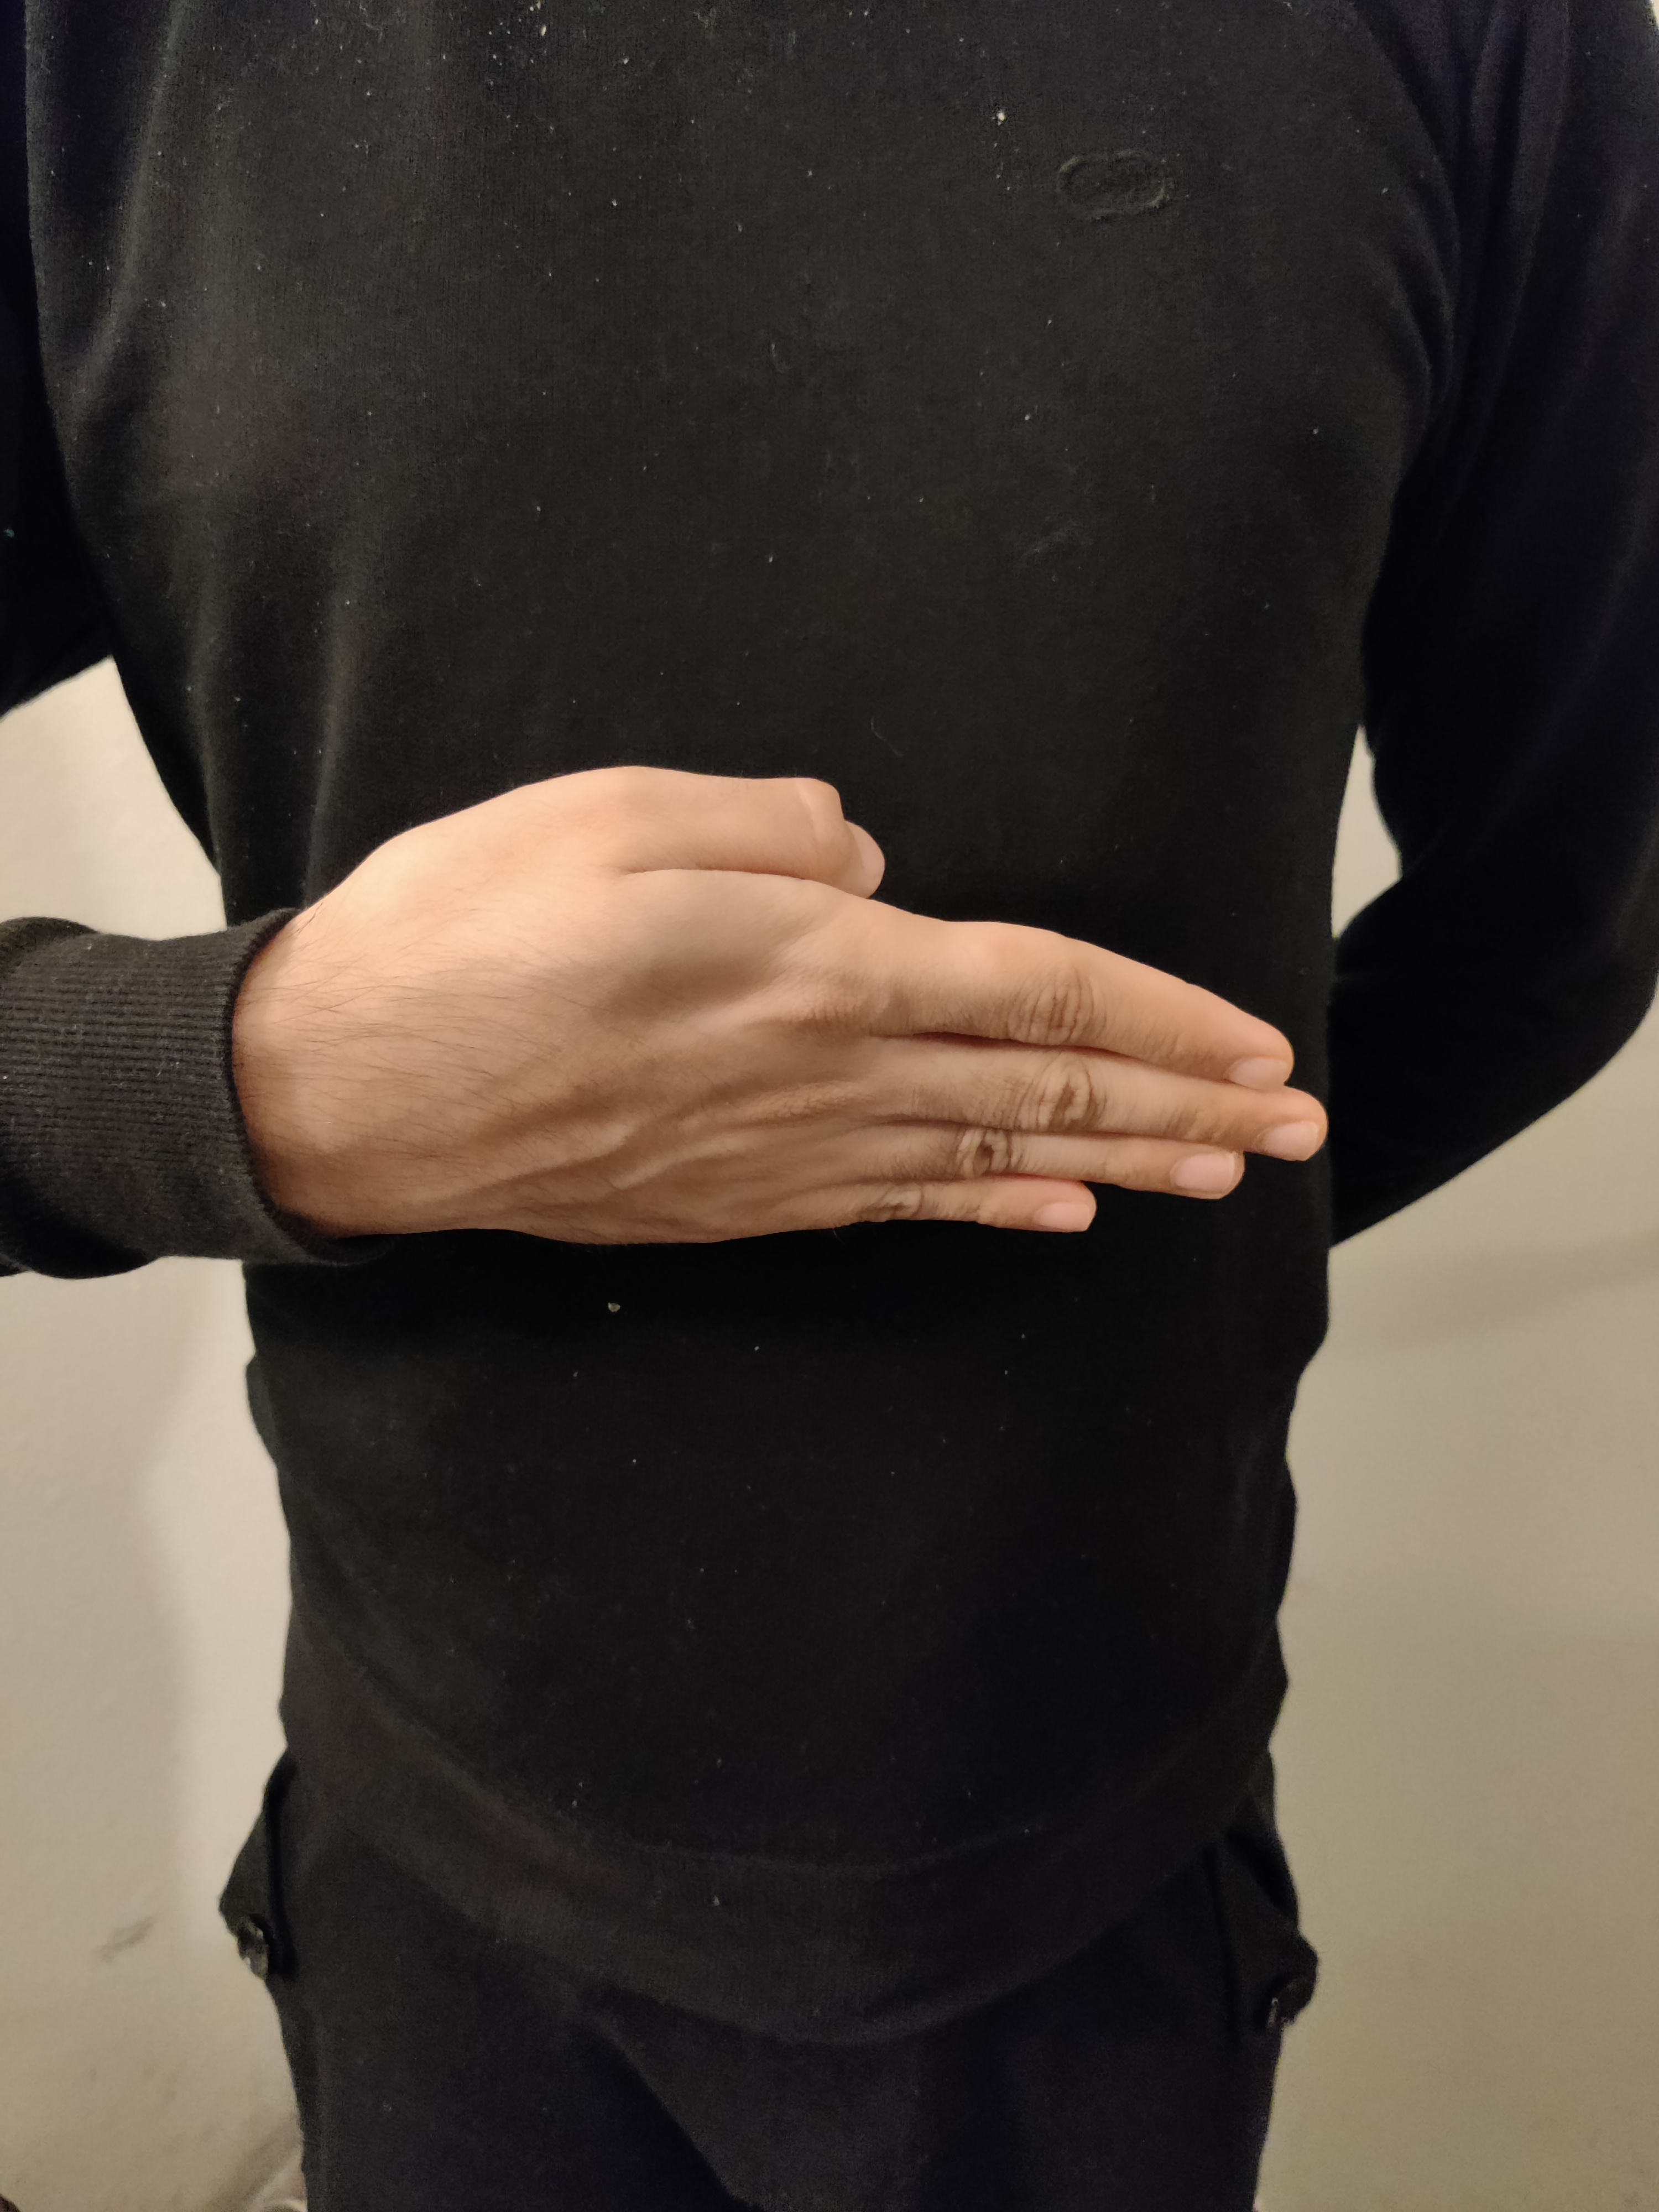left: (73, 493, 1432, 1465)
